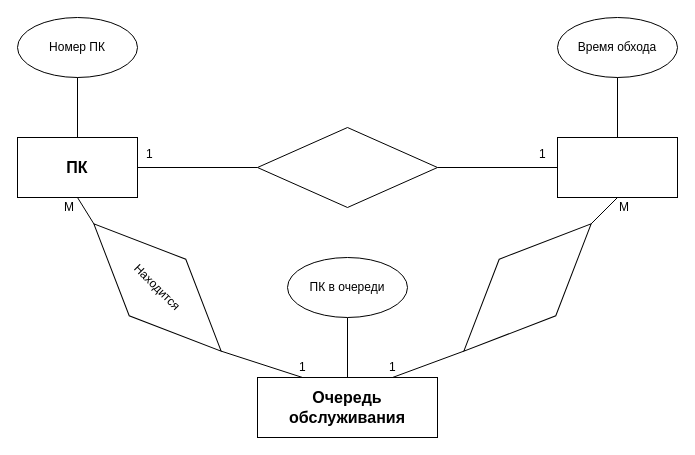
This 695x455 diagram has some shape labels left out. Each missing label, with the centre of its shape:
Инженер: (617,167)
Обсуживается: (347,167)
Проверяет: (527,287)
